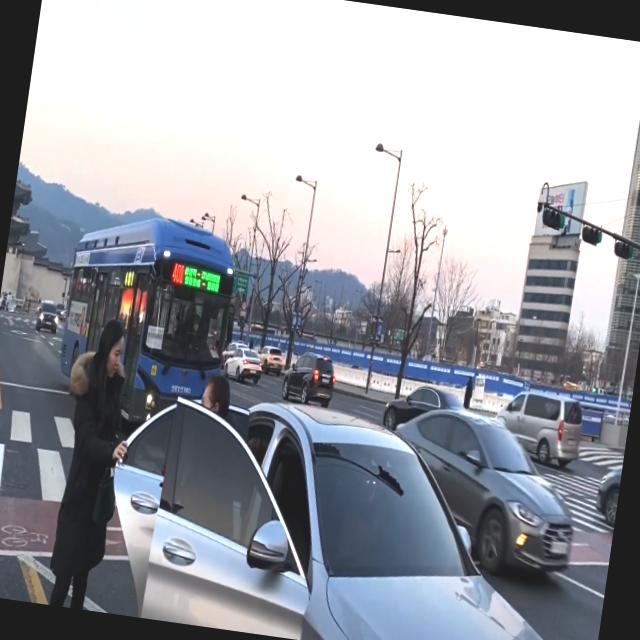bus-number: (170, 262, 186, 285)
